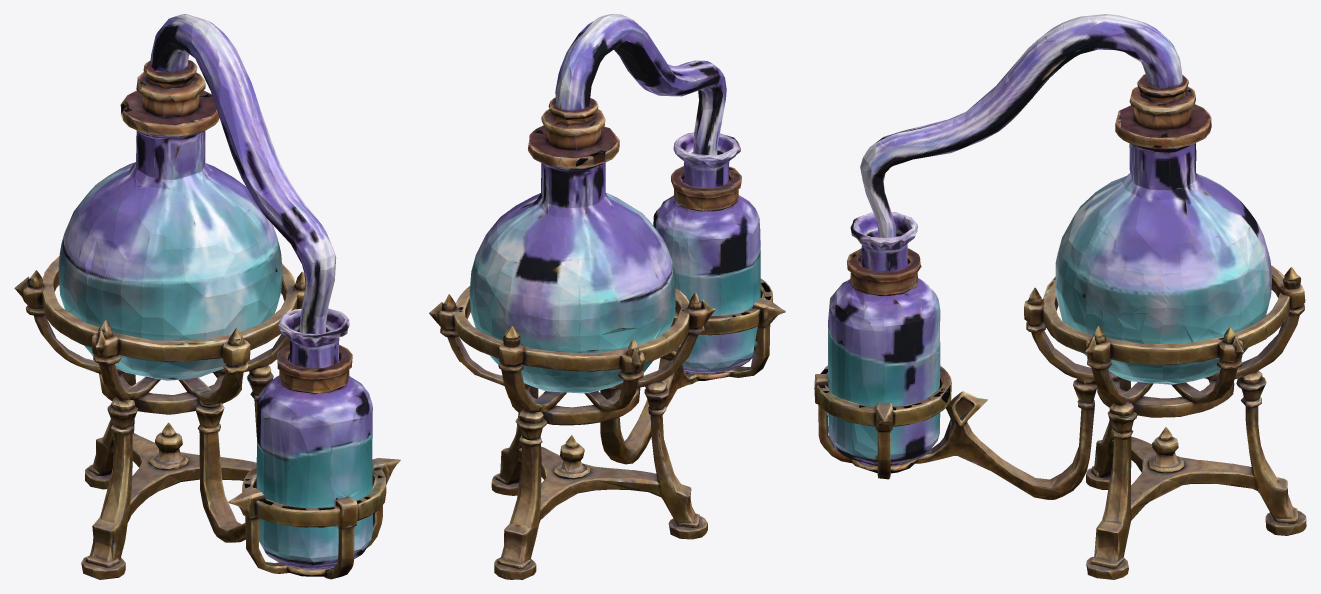
The model's file is dress-alembic.glb.
3 renders of one model, left to right at view 1: azimuth 30°, elevation 25°; view 2: azimuth 150°, elevation 25°; view 3: azimuth 270°, elevation 25°, orthographic. The views are drawn at different scales.
Bounding box in the file's own units: 0.454 × 0.9997 × 0.8713.
1 material, 1 textured.
